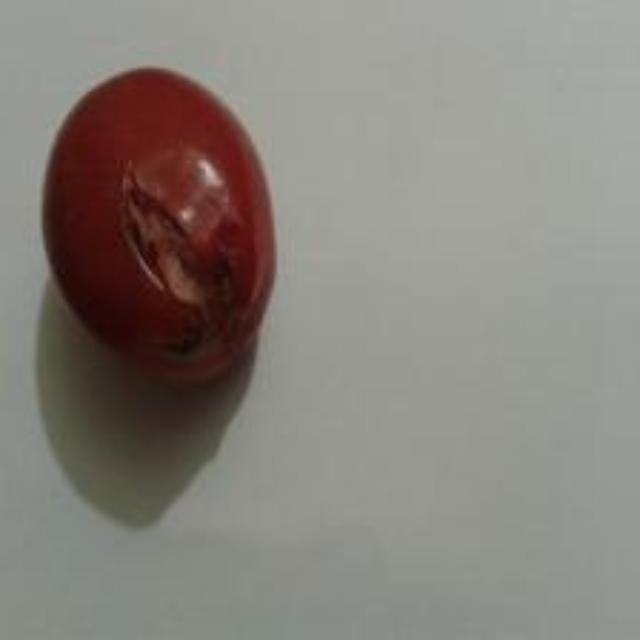defect: (36, 62, 284, 388)
